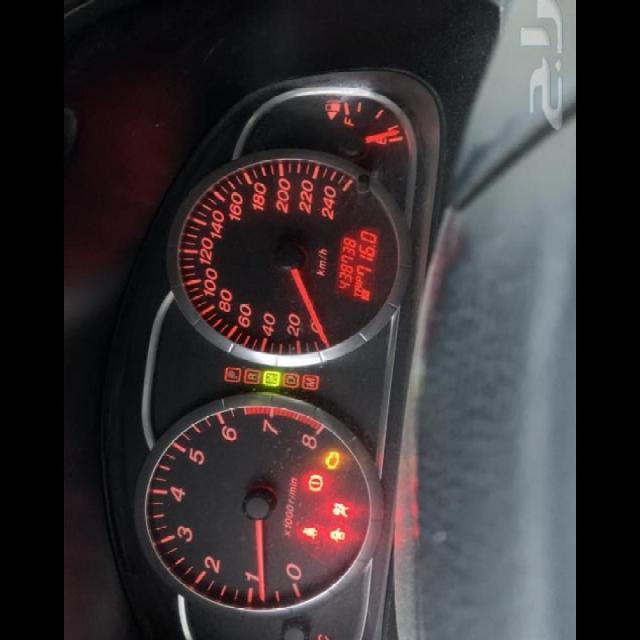Seat Belt: (302, 526, 318, 540)
